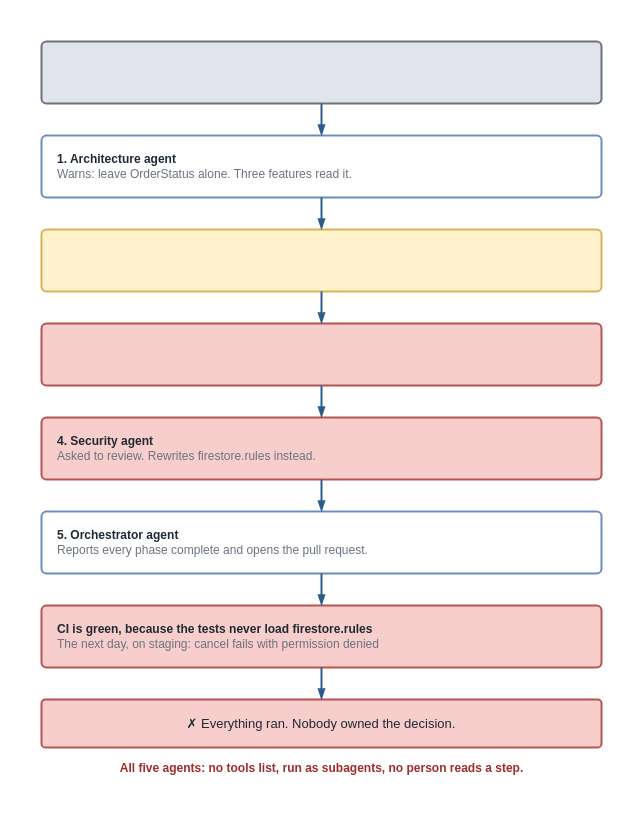
This 642x822 diagram has some shape labels left out. Each missing label, with the box of its shape:
2. Developer agent Never sees the warning. Adds a new value to OrderStatus.: (40, 228, 602, 292)
3. Tester agent A test fails, so it widens canCancel in production code.: (40, 322, 602, 386)
One sentence from you "Let customers give a reason when they cancel an order": (40, 40, 602, 104)
